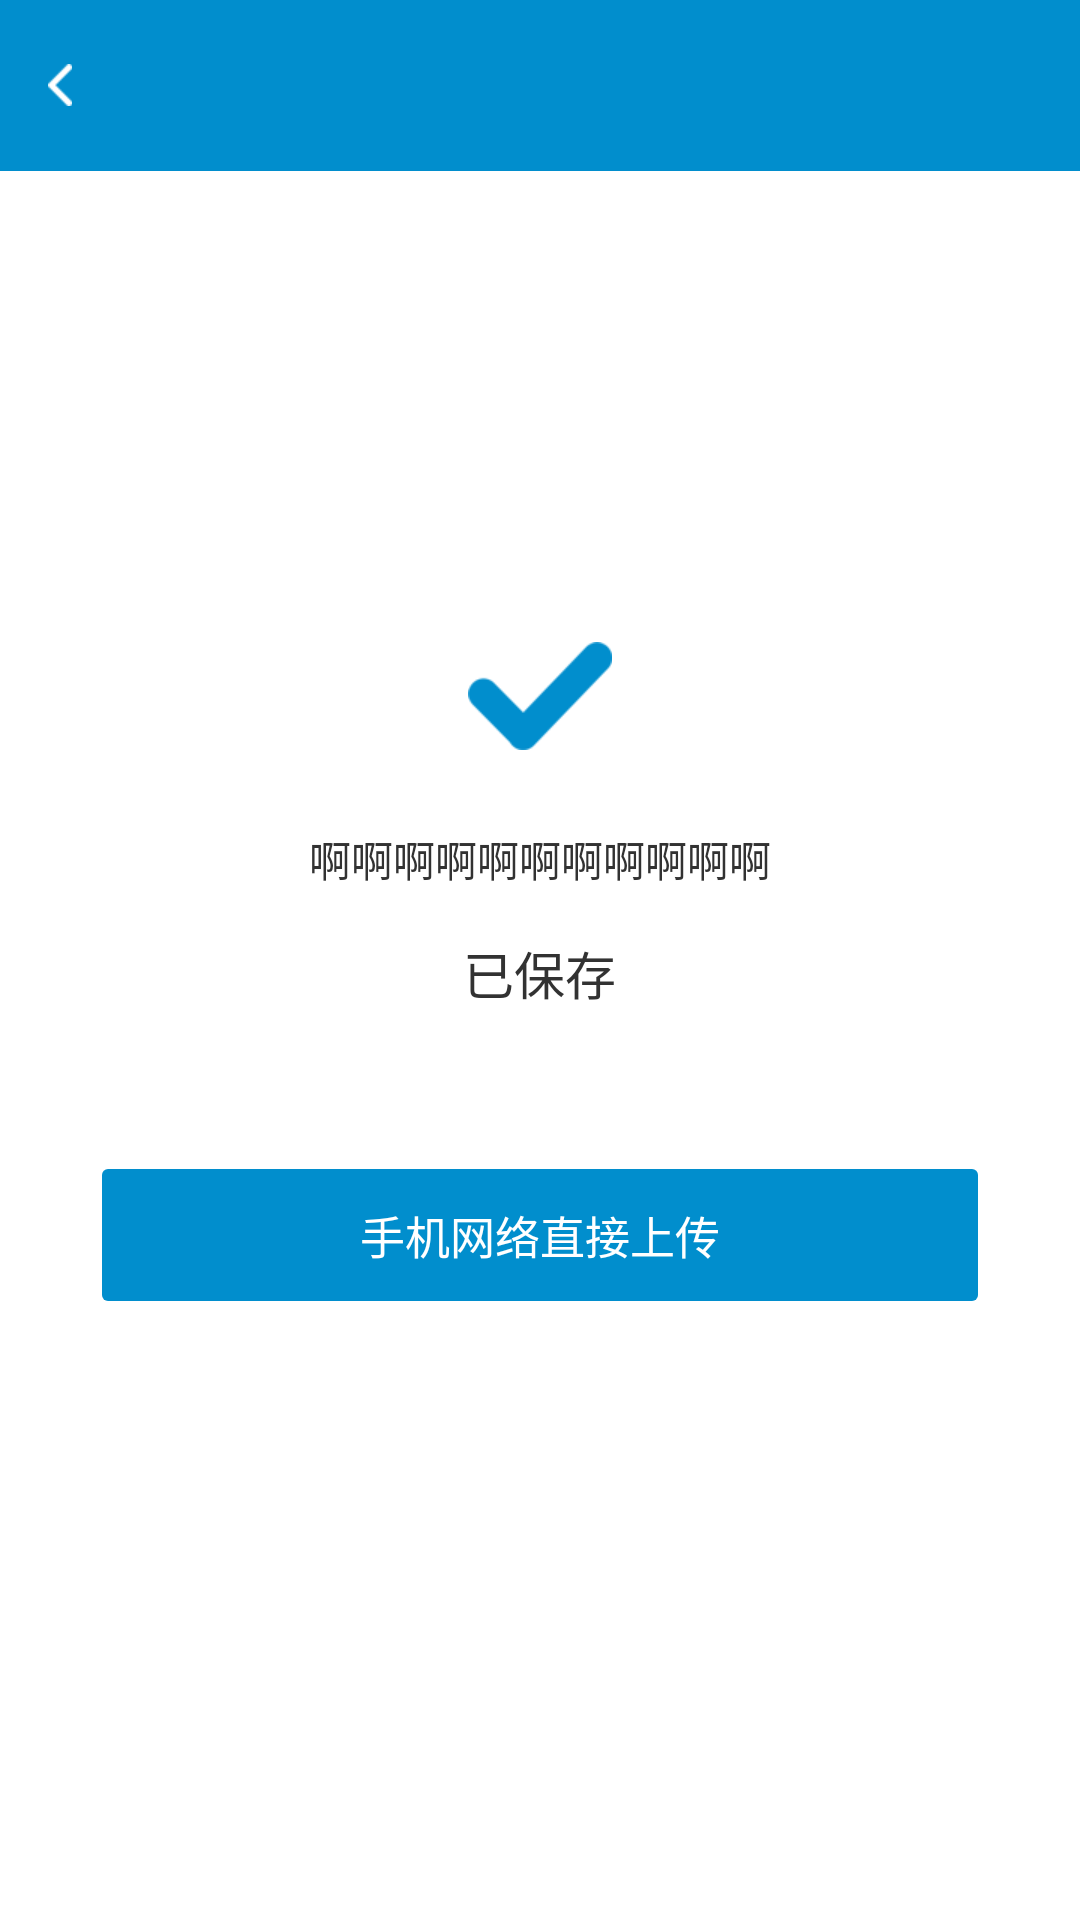

Locate icon controls on the screen. Image size 1080px×1920px, boxes as (x1, y1, x2, y2).
back: (48, 64, 72, 106)
